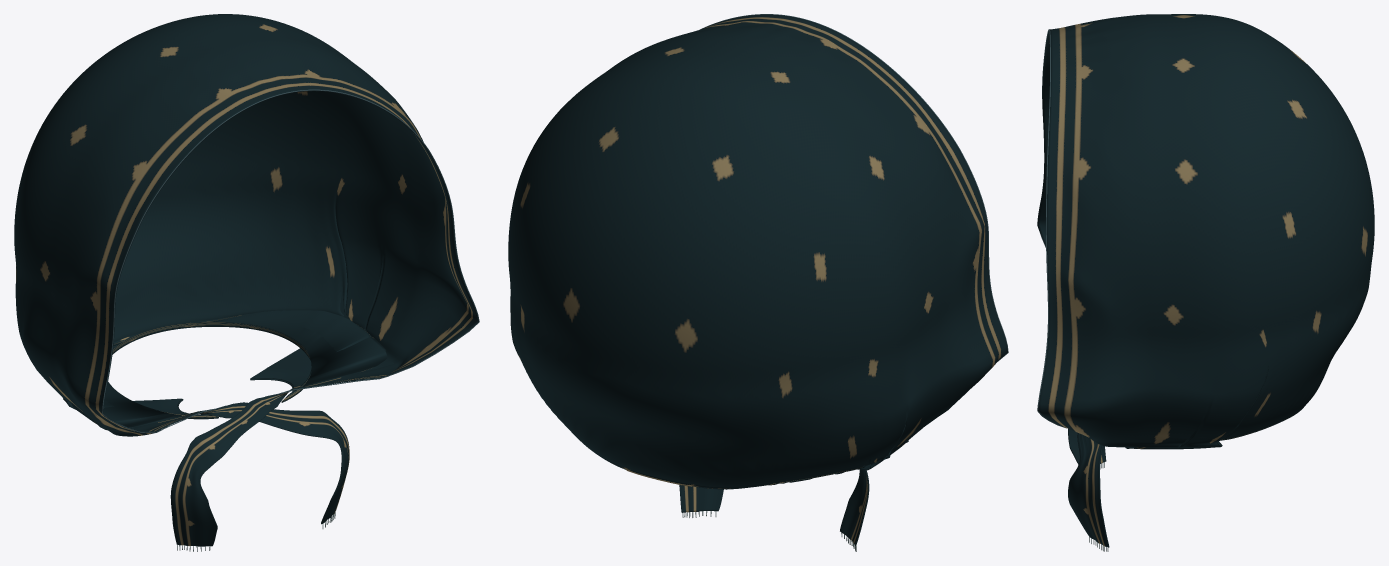
Rendered from Feminine-Feminine-curls-sweatshirt-pashmina250-headgear-5b869d53.glb.
The picture shows the model from 3 angles, left to right: view 1: azimuth 30°, elevation 25°; view 2: azimuth 150°, elevation 25°; view 3: azimuth 270°, elevation 25°; orthographic projection. The views are drawn at different scales.
Visible parts, largest first — view 1: 226 headgear / Headwear / continuous woven pashmina239, 226 headgear / Headwear / face edge239; view 2: 226 headgear / Headwear / continuous woven pashmina239, 226 headgear / Headwear / face edge239; view 3: 226 headgear / Headwear / continuous woven pashmina239, 226 headgear / Headwear / face edge239.
Part boxes in pixels (left/top/right/bottom): 226 headgear / Headwear / continuous woven pashmina239: left=14, top=14, right=478, bottom=546; 226 headgear / Headwear / face edge239: left=102, top=89, right=479, bottom=433; 226 headgear / Headwear / continuous woven pashmina239: left=508, top=14, right=1007, bottom=545; 226 headgear / Headwear / face edge239: left=700, top=14, right=1008, bottom=361; 226 headgear / Headwear / continuous woven pashmina239: left=1037, top=14, right=1374, bottom=547; 226 headgear / Headwear / face edge239: left=1037, top=29, right=1066, bottom=428.
Size of the model in its own units: 1.22 by 1.43 by 0.9099.
Materials: 3 (1 with a texture image).
